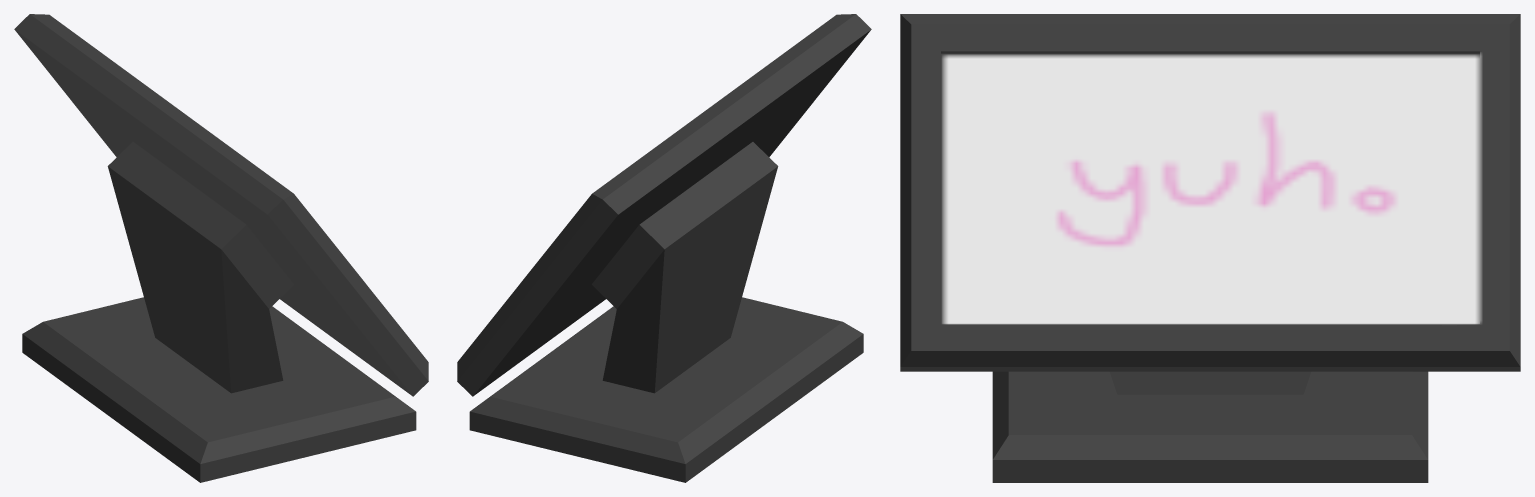
The model's file is ComputerMonitor.fbx.
The picture shows the model from 3 angles, left to right: view 1: azimuth 30°, elevation 25°; view 2: azimuth 150°, elevation 25°; view 3: azimuth 270°, elevation 25°; orthographic projection. The views are drawn at different scales.
Parts seen in each view (by area): view 1: Computer; view 2: Computer; view 3: Computer.
Part boxes in pixels (<box>): Computer: <box>14,14,428,482</box>; Computer: <box>457,14,871,482</box>; Computer: <box>900,14,1520,482</box>.
Bounding box in the file's own units: 70 × 92.99 × 142.
